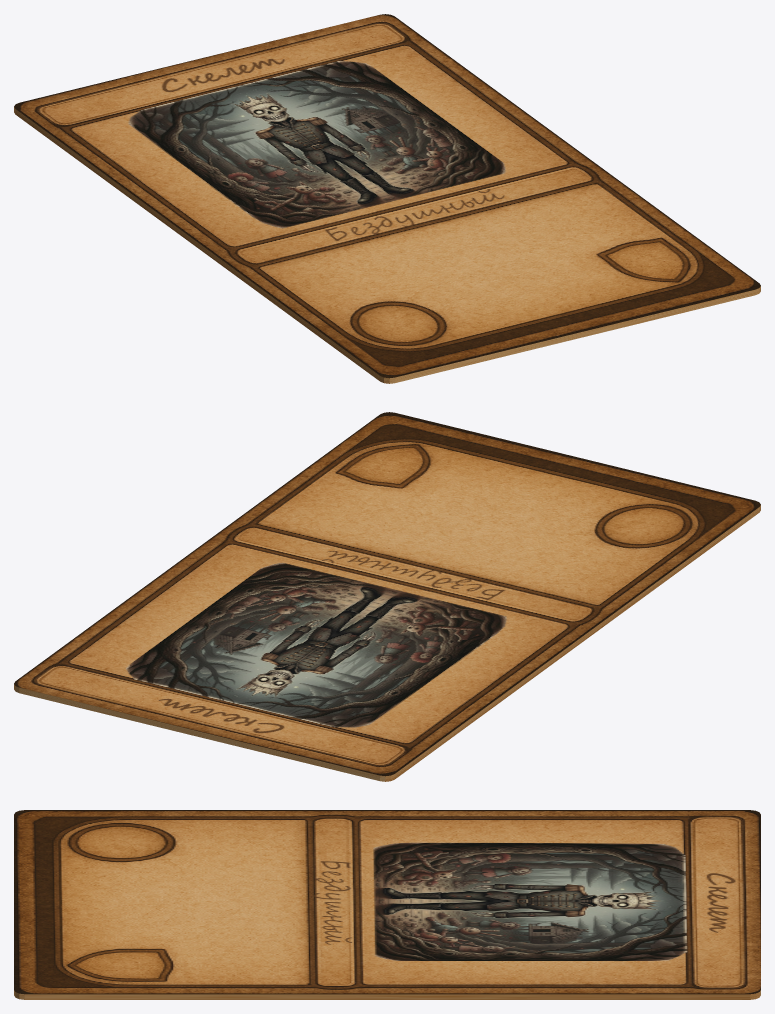
Rendered from Карта скелетик.fbx.
3 views of the same model, one above another, from view 1: azimuth 30°, elevation 25°; view 2: azimuth 150°, elevation 25°; view 3: azimuth 270°, elevation 25° (orthographic).
Parts seen in each view (by area): view 1: Cube; view 2: Cube; view 3: Cube.
Part boxes in pixels (x1=…): Cube: x1=14, y1=14, x2=760, y2=383; Cube: x1=14, y1=412, x2=760, y2=781; Cube: x1=14, y1=810, x2=760, y2=999.
Size of the model in its own units: 7 by 0.1 by 12.
Materials: 1 (1 with a texture image).
